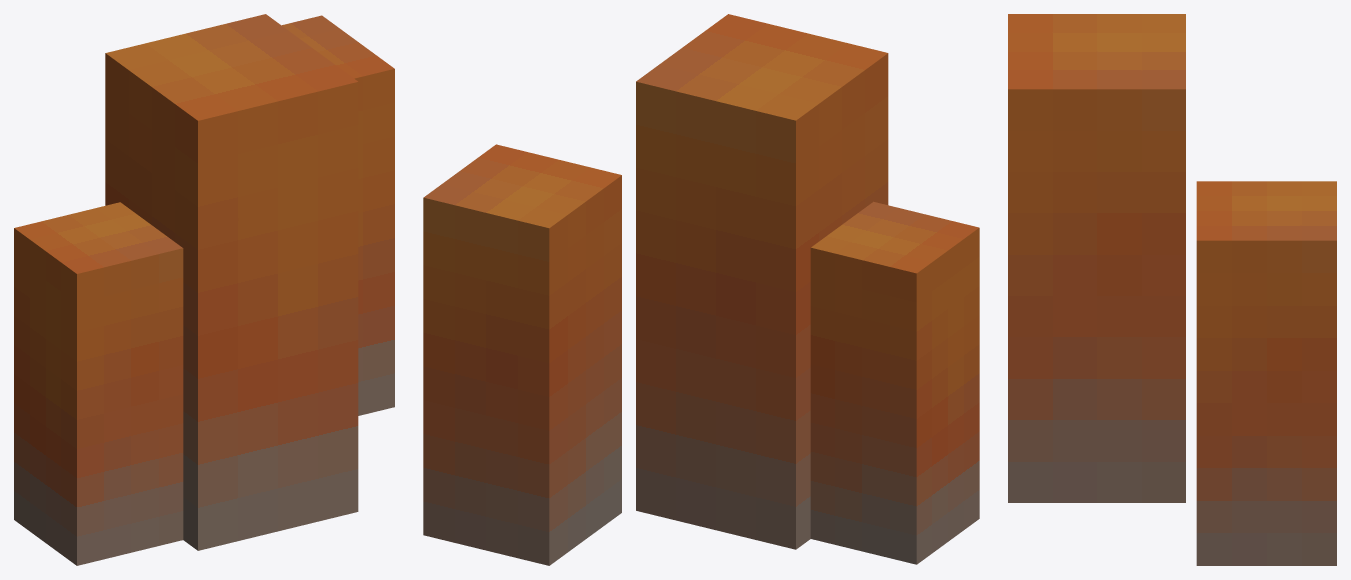
The model's file is scheelite_crystal_three.obj.
3 views of the same model, side by side, from view 1: azimuth 30°, elevation 25°; view 2: azimuth 150°, elevation 25°; view 3: azimuth 270°, elevation 25° (orthographic). The views are drawn at different scales.
Visible parts, largest first — view 1: Crystal1_Cube, Crystal1.001_Cube.005, Crystal1.002_Cube.006; view 2: Crystal1_Cube, Crystal1.002_Cube.006, Crystal1.001_Cube.005; view 3: Crystal1_Cube, Crystal1.002_Cube.006.
Part boxes in pixels (x1,y1,x2,y2): Crystal1_Cube: (105, 14, 358, 550); Crystal1.001_Cube.005: (14, 202, 183, 565); Crystal1.002_Cube.006: (282, 15, 394, 415); Crystal1_Cube: (636, 14, 888, 549); Crystal1.002_Cube.006: (423, 144, 621, 565); Crystal1.001_Cube.005: (810, 201, 979, 564); Crystal1_Cube: (1008, 14, 1185, 502); Crystal1.002_Cube.006: (1196, 181, 1336, 565).
Size of the model in its own units: 0.4881 by 0.5 by 0.3604.
